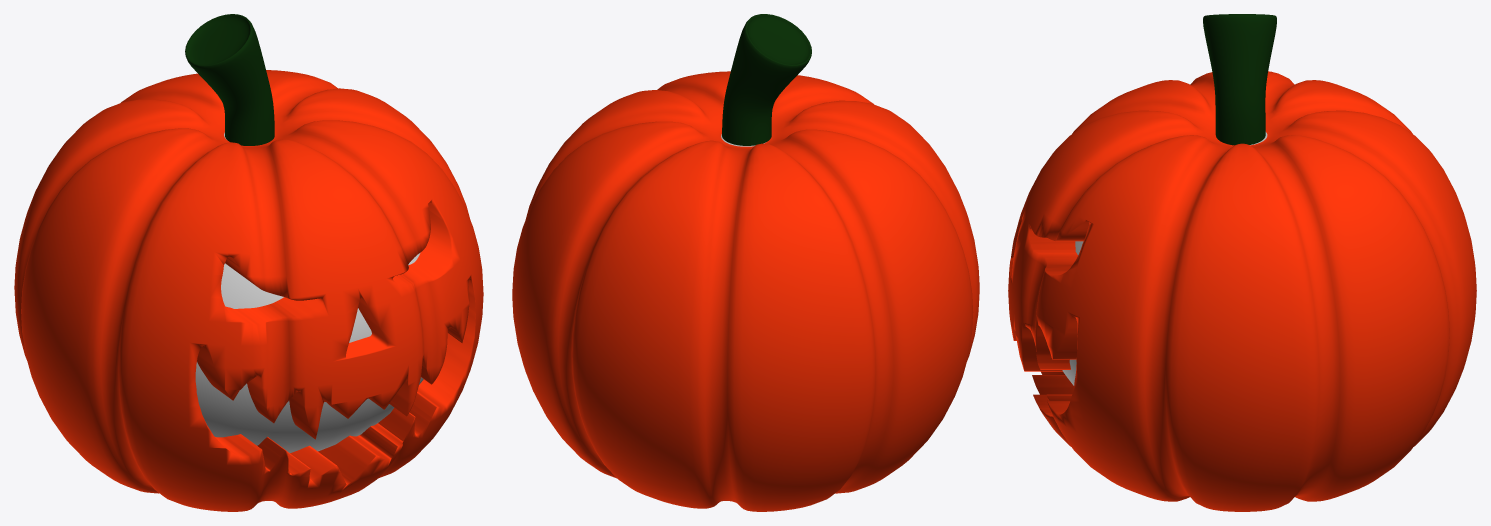
Rendered from pumpkin.obj.
3 renders of one model, left to right at view 1: azimuth 30°, elevation 25°; view 2: azimuth 150°, elevation 25°; view 3: azimuth 270°, elevation 25°, orthographic.
Visible parts, largest first — view 1: Sphere.019, Sphere.017, Sphere.018; view 2: Sphere.019, Sphere.018; view 3: Sphere.019, Sphere.018.
Boxes of the visible parts, x1,y1,x2,y2 form: Sphere.019: [14, 70, 483, 511]; Sphere.017: [195, 132, 423, 452]; Sphere.018: [185, 14, 274, 145]; Sphere.019: [512, 71, 979, 511]; Sphere.018: [722, 14, 811, 145]; Sphere.019: [1008, 71, 1476, 511]; Sphere.018: [1203, 14, 1276, 145].
Bounding box in the file's own units: 1.58 × 1.67 × 1.58.
